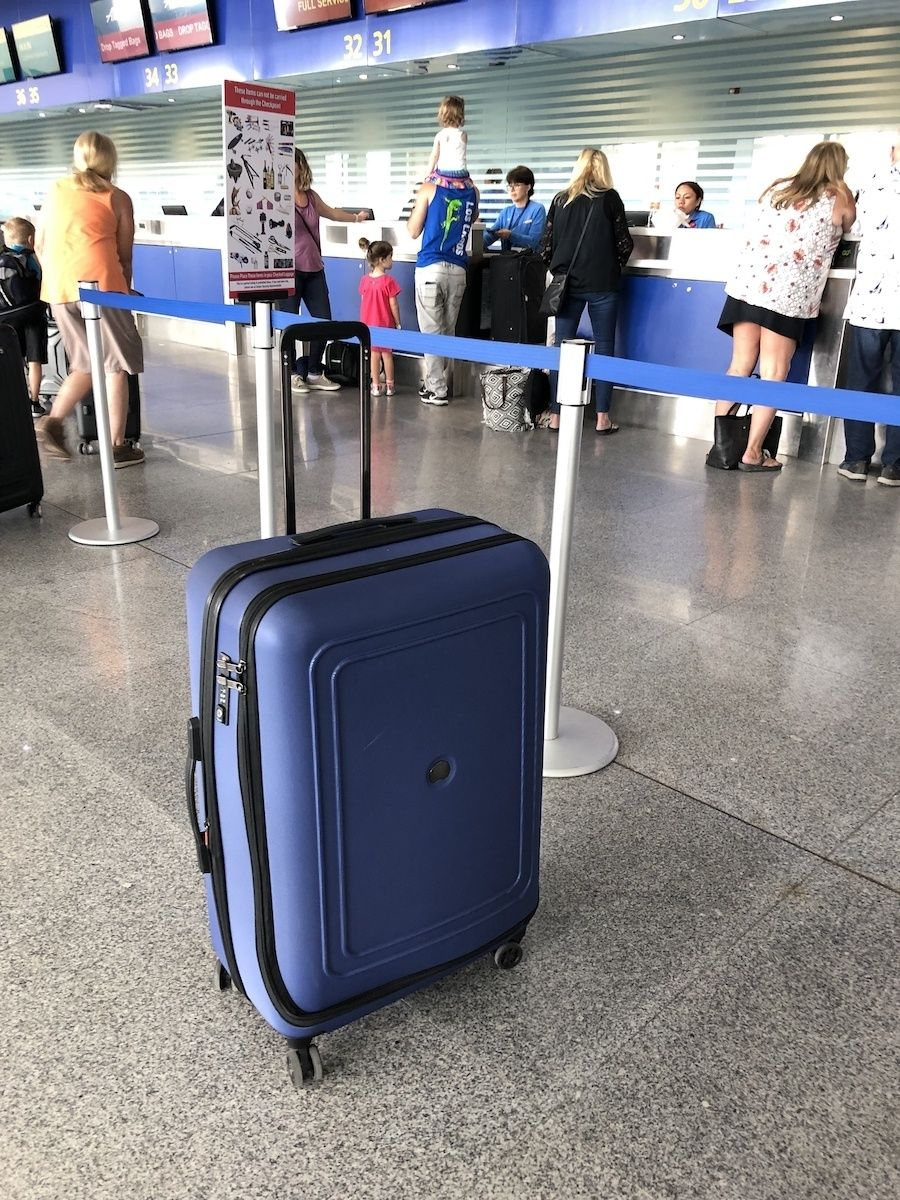bag: (710, 367, 793, 475), (468, 363, 543, 434)
luggage: (168, 313, 562, 1092)
people: (711, 133, 862, 494), (28, 124, 167, 478), (534, 146, 629, 444), (281, 139, 374, 405), (833, 137, 900, 491), (401, 168, 481, 409), (348, 232, 405, 397), (412, 92, 482, 181), (645, 176, 725, 243)
